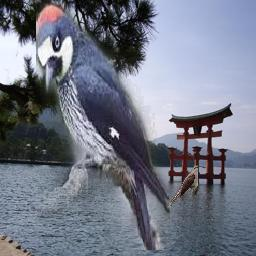Cuckoo: (168, 166, 199, 209)
Woodpecker: (36, 0, 170, 250)
